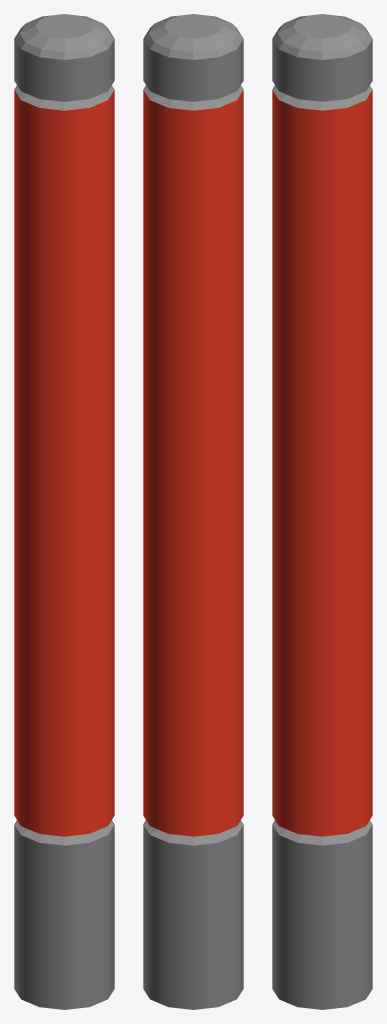
The model's file is SM_signal_rod_02.fbx.
3 views of the same model, side by side, from view 1: azimuth 90°, elevation 25°; view 2: azimuth 210°, elevation 25°; view 3: azimuth 270°, elevation 25° (orthographic).
Parts seen in each view (by area): view 1: signal_rod_02; view 2: signal_rod_02; view 3: signal_rod_02.
Boxes of the visible parts, <box> form: signal_rod_02: <box>14,14,114,1009</box>; signal_rod_02: <box>143,14,243,1009</box>; signal_rod_02: <box>272,14,372,1009</box>.
Bounding box in the file's own units: 11.52 × 122 × 11.52.
